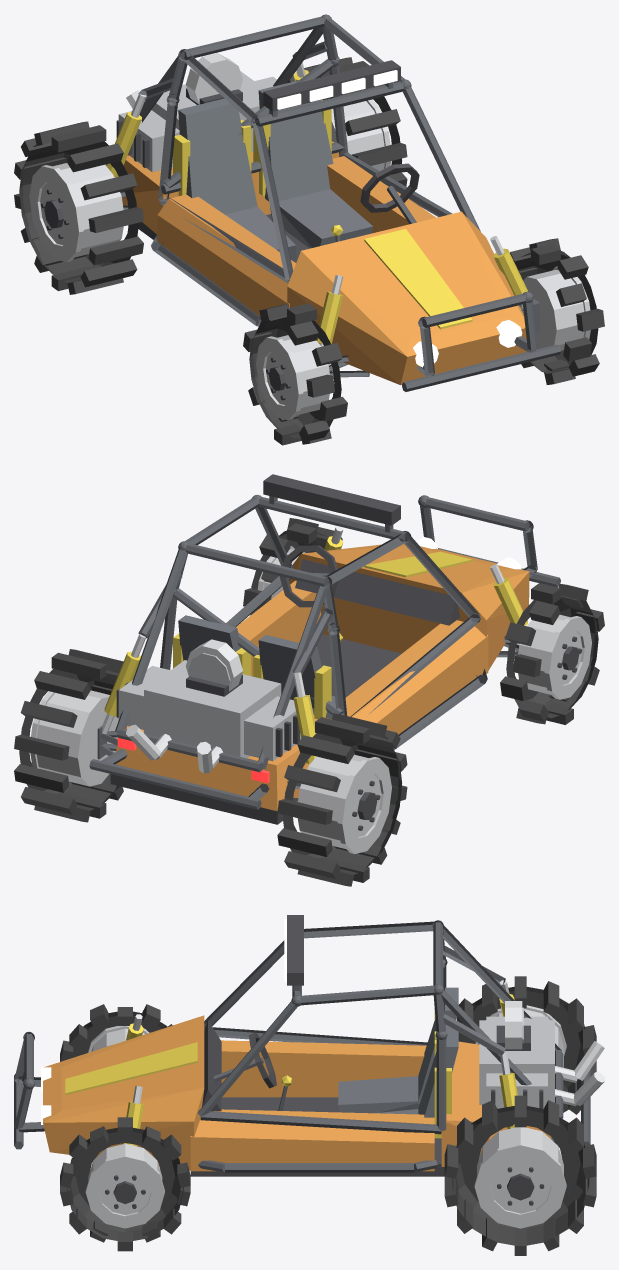
File: dune_buggy.glb
The picture shows the model from 3 angles, top to bottom: view 1: azimuth 30°, elevation 25°; view 2: azimuth 150°, elevation 25°; view 3: azimuth 270°, elevation 25°; orthographic projection. The views are drawn at different scales.
Visible parts, largest first — view 1: Chassis_paint, Chassis_cage, Chassis_seat, Wheel_RR_Tire, Chassis_accent, Wheel_FR_Tire, Wheel_RR_Rim, Wheel_FL_Tire, Chassis_dark, Wheel_FR_Rim, Wheel_FL_Rim, Wheel_RL_Tire (+5 smaller); view 2: Chassis_paint, Chassis_cage, Chassis_dark, Chassis_engine, Wheel_RR_Tire, Wheel_RL_Tire, Wheel_FR_Tire, Wheel_RR_Rim, Chassis_accent, Wheel_RL_Rim, Wheel_FR_Rim, Chassis_seat (+3 smaller); view 3: Chassis_paint, Chassis_cage, Wheel_RL_Tire, Wheel_FL_Tire, Chassis_dark, Wheel_RL_Rim, Wheel_FL_Rim, Chassis_seat, Chassis_engine, Wheel_RR_Tire, Chassis_accent, Chassis_chrome (+6 smaller).
Boxes of the visible parts, box(x1,y1,x2,y2) form: Chassis_paint: box(122, 141, 526, 385); Chassis_cage: box(105, 14, 560, 391); Chassis_seat: box(178, 80, 373, 260); Wheel_RR_Tire: box(14, 121, 143, 294); Chassis_accent: box(106, 70, 527, 343); Wheel_FR_Tire: box(243, 303, 347, 445); Wheel_RR_Rim: box(29, 163, 123, 262); Wheel_FL_Tire: box(510, 238, 604, 384); Chassis_dark: box(116, 60, 419, 262); Wheel_FR_Rim: box(256, 335, 329, 420); Wheel_FL_Rim: box(519, 266, 590, 350); Wheel_RL_Tire: box(288, 57, 407, 186); Chassis_paint: box(115, 544, 529, 811); Chassis_cage: box(89, 494, 560, 809); Chassis_dark: box(110, 474, 460, 824); Chassis_engine: box(118, 653, 301, 761); Wheel_RR_Tire: box(277, 713, 407, 886); Wheel_RL_Tire: box(14, 649, 123, 822); Wheel_FR_Tire: box(500, 583, 604, 724); Wheel_RR_Rim: box(297, 754, 391, 853); Chassis_accent: box(104, 536, 527, 763); Wheel_RL_Rim: box(30, 690, 118, 786); Wheel_FR_Rim: box(518, 614, 591, 699); Chassis_seat: box(178, 615, 335, 708); Chassis_paint: box(43, 1015, 551, 1171); Chassis_cage: box(14, 920, 590, 1172); Wheel_RL_Tire: box(444, 1095, 596, 1255); Wheel_FL_Tire: box(60, 1117, 190, 1251); Chassis_dark: box(190, 915, 543, 1176); Wheel_RL_Rim: box(474, 1127, 566, 1228); Wheel_FL_Rim: box(85, 1143, 164, 1228); Chassis_seat: box(338, 987, 458, 1139); Chassis_engine: box(479, 1007, 554, 1108); Wheel_RR_Tire: box(457, 976, 596, 1114); Chassis_accent: box(65, 994, 517, 1146); Chassis_chrome: box(132, 980, 604, 1106).
Size of the model in its own units: 1.98 by 1.55 by 3.44.
